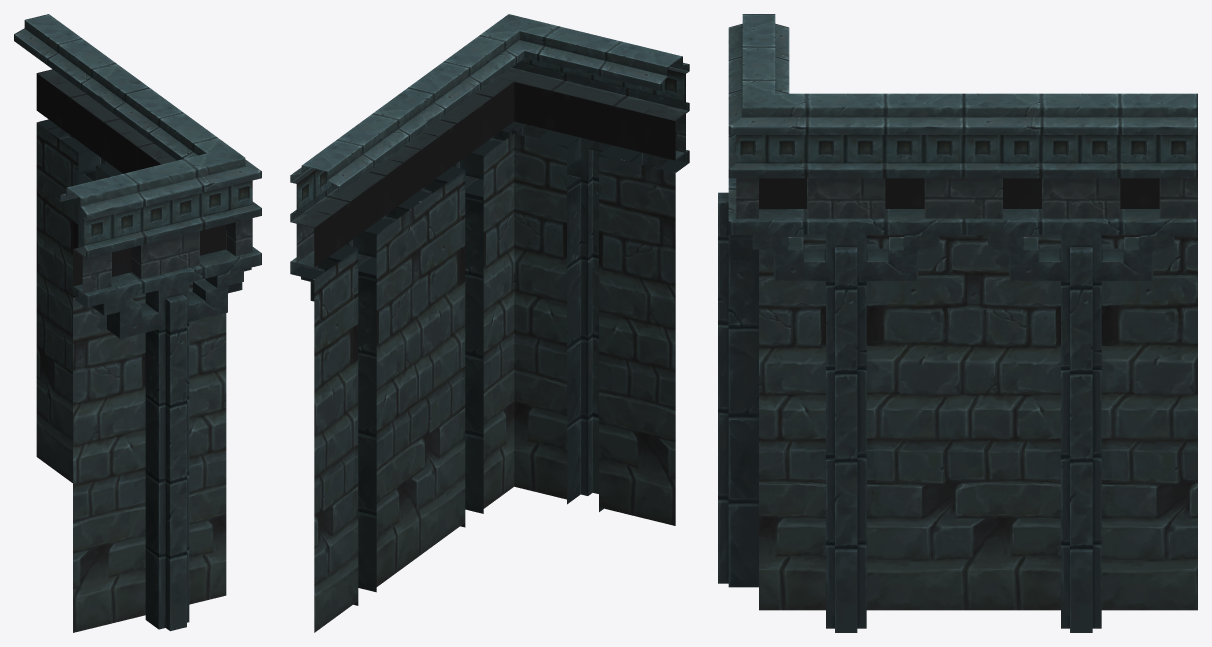
Rendered from Stage_DiXiaCheng_DiMianBaoBian07.FBX.
The picture shows the model from 3 angles, left to right: view 1: azimuth 30°, elevation 25°; view 2: azimuth 150°, elevation 25°; view 3: azimuth 270°, elevation 25°; orthographic projection. The views are drawn at different scales.
Parts seen in each view (by area): view 1: Stage_DiXiaCheng_DiMianBaoBian07; view 2: Stage_DiXiaCheng_DiMianBaoBian07; view 3: Stage_DiXiaCheng_DiMianBaoBian07.
Part boxes in pixels (<box>): Stage_DiXiaCheng_DiMianBaoBian07: <box>14,14,261,632</box>; Stage_DiXiaCheng_DiMianBaoBian07: <box>290,14,689,632</box>; Stage_DiXiaCheng_DiMianBaoBian07: <box>718,14,1197,632</box>.
Bounding box in the file's own units: 630 × 1458 × 1230.
